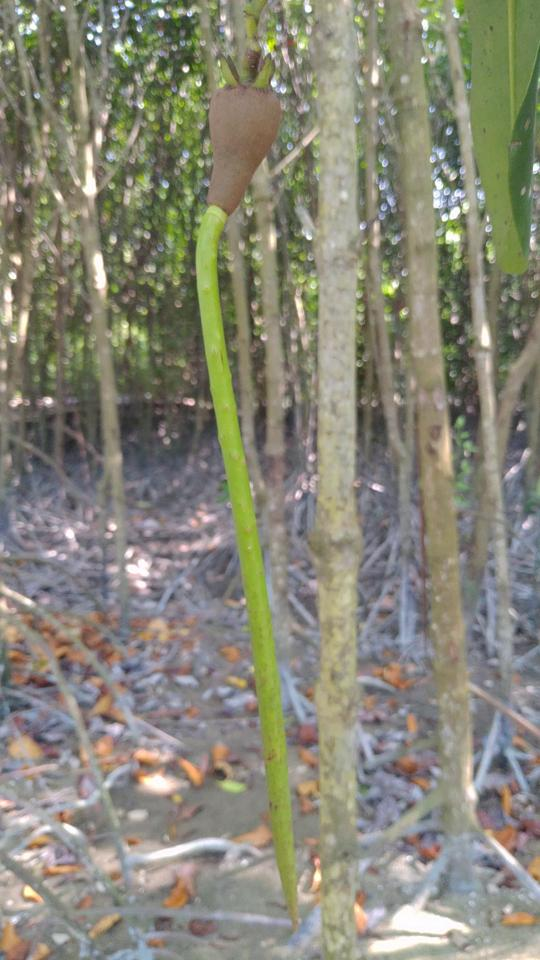setengah matang: (179, 30, 328, 937)
